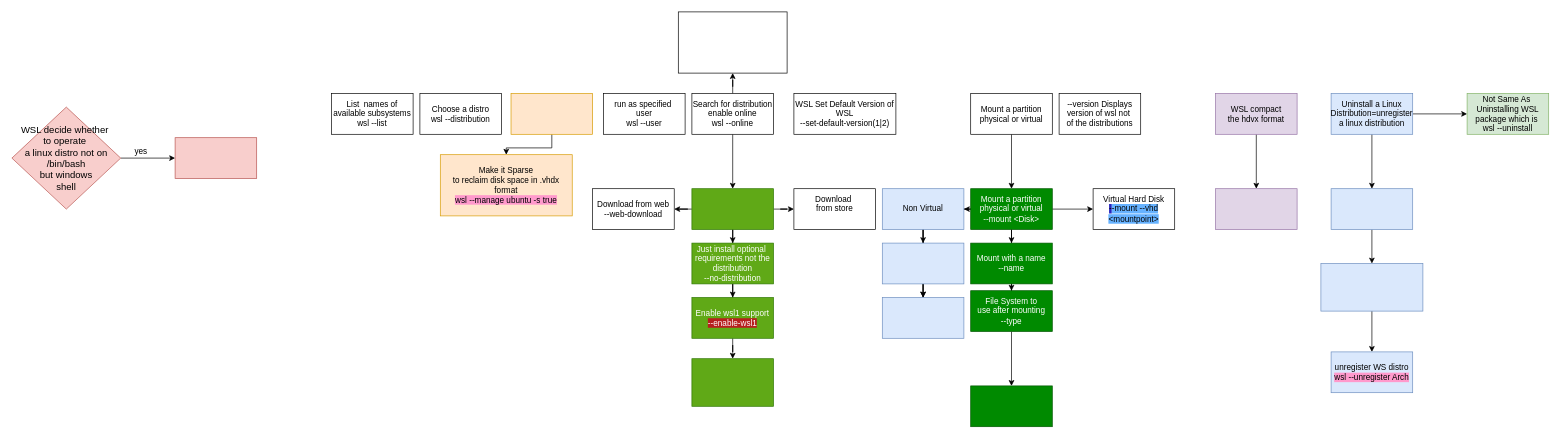
Some shapes in this 1561 by 439 pixel diagram are drawn without their labels. Here are the shapes that lost their labels. From the top down, the centre of each, then its label:
pixel 732 42: List available distribution online wsl --list --online
pixel 551 113: Manage a distribution after selecting distro --manage
pixel 215 157: Use --exec flag
pixel 732 209: Install a subsystem after listing wsl --install --distribution
pixel 1256 209: wsl --manage --set-sparse <true|false>
pixel 1371 209: Shutdown WSL wsl --shutdown
pixel 923 263: Find Index of partition to mount
pixel 1371 287: Make .vhdx format compact wsl --manage Arch -s true
pixel 923 317: DiskPart.draw.io Check
pixel 732 382: By default wsl launches distribution after install To not launch use --no-launch
pixel 1011 406: Don't mount just use --bare
